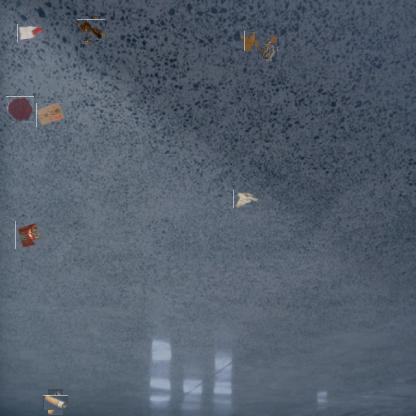dirty: (15, 222, 43, 249), (36, 104, 65, 128), (79, 18, 104, 42), (256, 39, 278, 61), (233, 190, 258, 208), (17, 24, 42, 42), (45, 392, 66, 413)
liquid: (7, 96, 34, 122), (242, 34, 258, 49)
